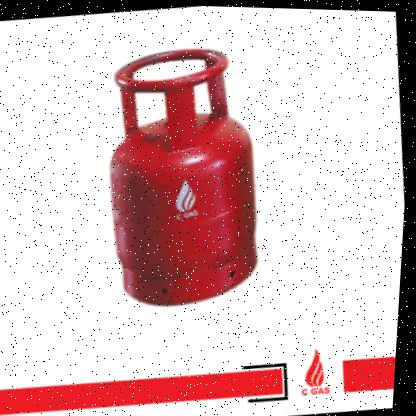gas-tank: (67, 12, 297, 322)
